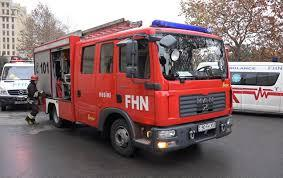Fire-engine: (30, 16, 236, 155)
